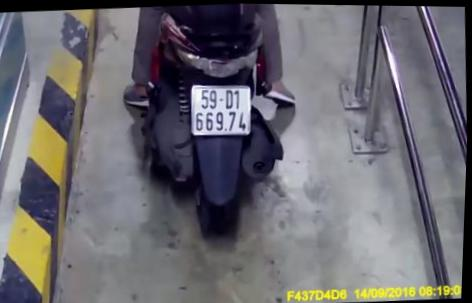LP: (187, 78, 255, 138)
